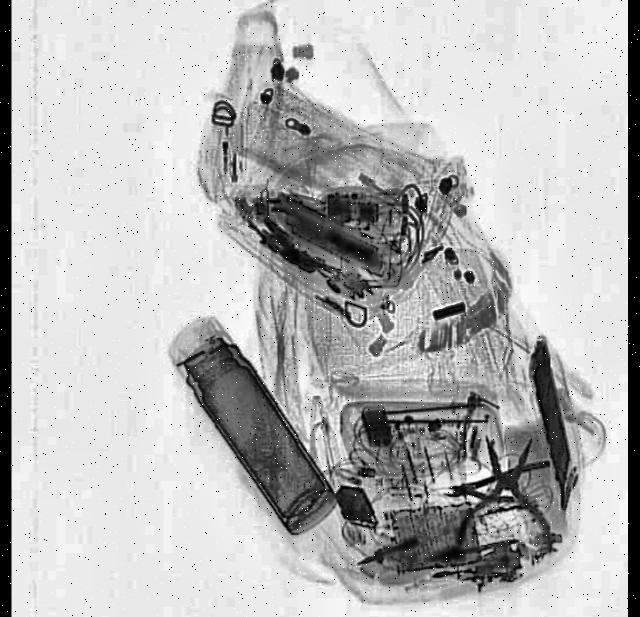Pliers: (454, 434, 552, 558), (442, 458, 550, 506)
